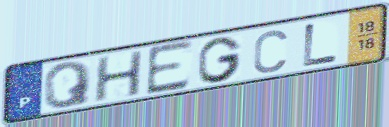C: (251, 28, 290, 76)
E: (144, 38, 195, 99)
G: (196, 35, 244, 85)
H: (92, 48, 145, 104)
L: (301, 21, 341, 69)
Q: (42, 59, 94, 110)
